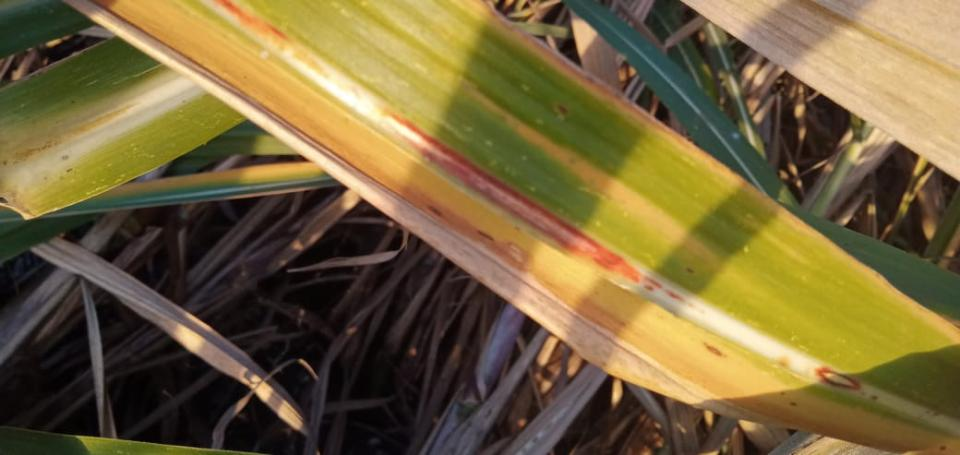RedRot: (380, 104, 705, 315), (211, 0, 317, 72), (815, 366, 862, 393)
Yellow: (90, 0, 959, 454), (466, 87, 721, 267)
